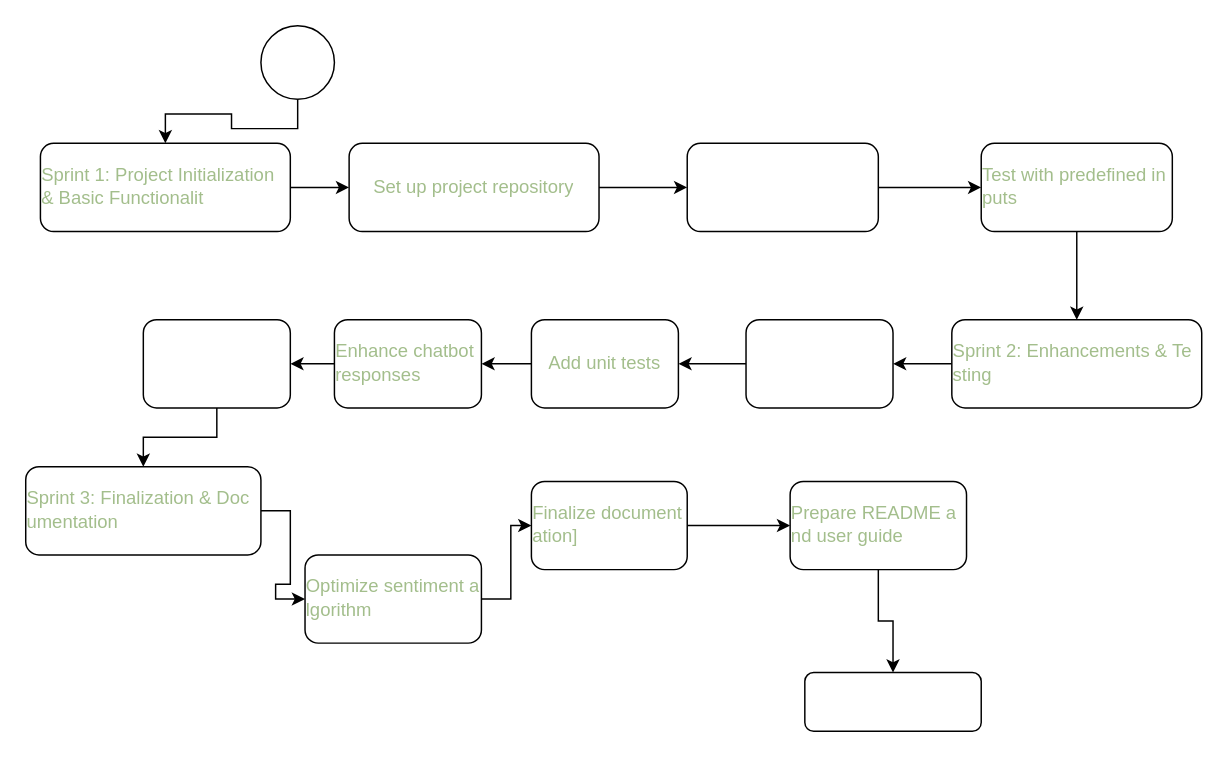
The diagram is 1227 pixels wide and 757 high, and some of its shapes have lost their labels. Each missing label, with the box of its shape:
Conduct usability testing: (142, 318, 290, 408)
End: (803, 671, 981, 731)
Implement basic chatbot structure: (686, 142, 878, 232)
Improve emotion detection logic: (745, 318, 893, 408)
start: (259, 24, 334, 99)
